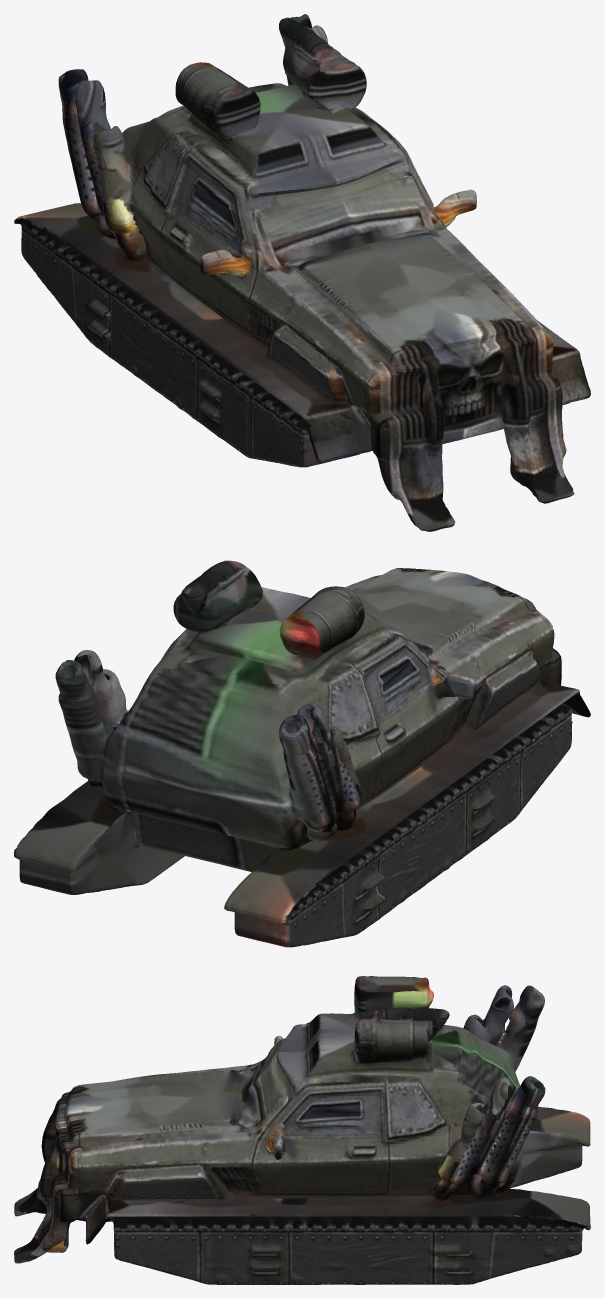
File: war_rig_tank.glb
3 views of the same model, one above another, from view 1: azimuth 30°, elevation 25°; view 2: azimuth 150°, elevation 25°; view 3: azimuth 270°, elevation 25° (orthographic). The views are drawn at different scales.
Visible parts, largest first — view 1: geometry_0; view 2: geometry_0; view 3: geometry_0.
Part boxes in pixels (x1,y1,x2,y2): geometry_0: [14, 14, 590, 531]; geometry_0: [14, 560, 590, 947]; geometry_0: [14, 976, 590, 1284].
Size of the model in its own units: 3.02 by 3.03 by 6.45.
1 material, 1 textured.
